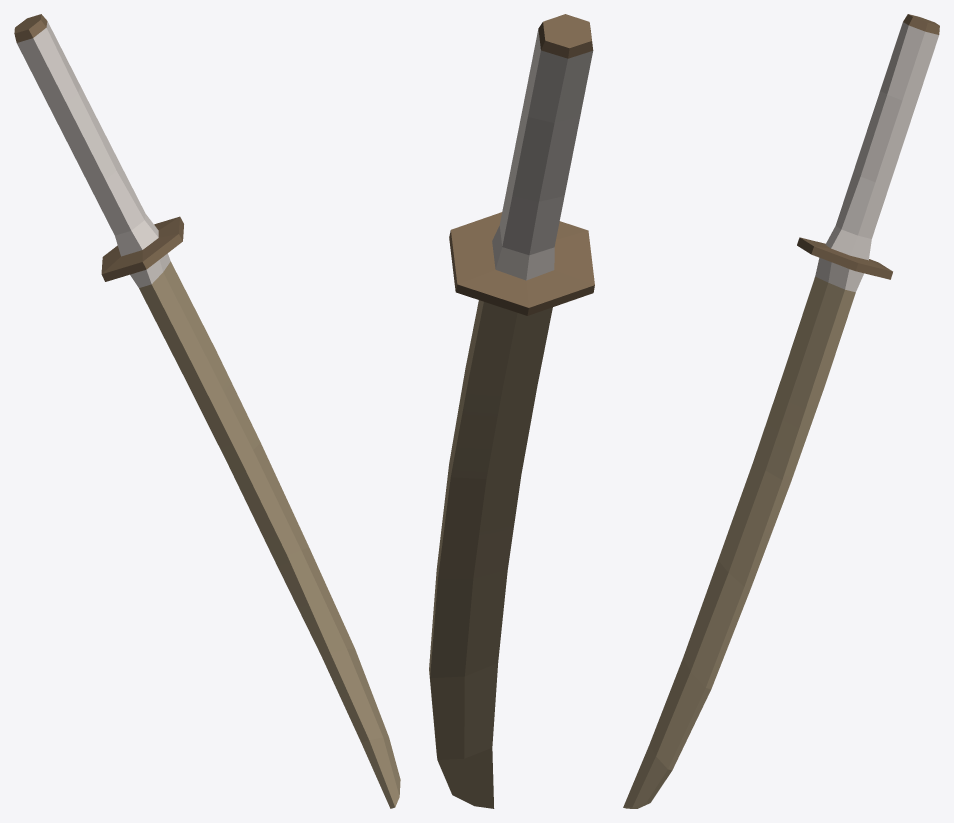
Rendered from bladeWood.fbx.
The picture shows the model from 3 angles, left to right: view 1: azimuth 30°, elevation 25°; view 2: azimuth 150°, elevation 25°; view 3: azimuth 270°, elevation 25°; orthographic projection. The views are drawn at different scales.
Parts seen in each view (by area): view 1: bladeWood; view 2: bladeWood; view 3: bladeWood.
Boxes of the visible parts, x1,y1,x2,y2 form: bladeWood: [14, 14, 400, 808]; bladeWood: [429, 14, 594, 808]; bladeWood: [623, 14, 939, 808].
Size of the model in its own units: 0.5048 by 1.44 by 0.5943.
Materials: 1 (1 with a texture image).
